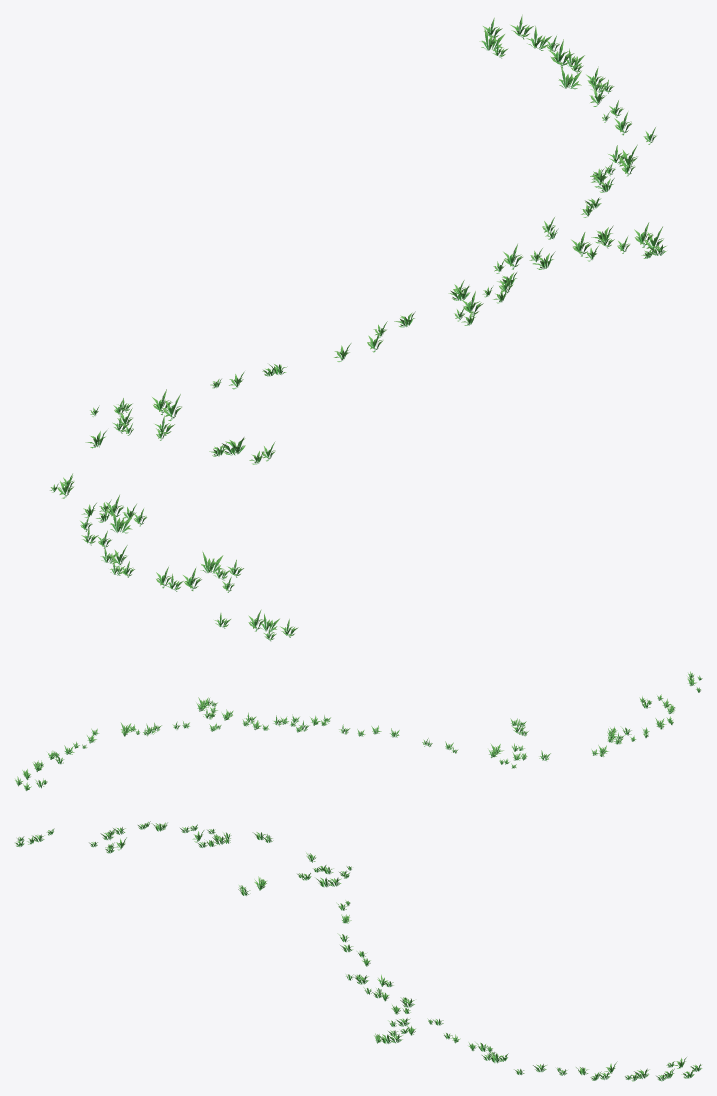
Rendered from Area_10_7.fbx.
3 renders of one model, top to bottom at view 1: azimuth 30°, elevation 25°; view 2: azimuth 150°, elevation 25°; view 3: azimuth 270°, elevation 25°, orthographic. The views are drawn at different scales.
Visible parts, largest first — view 1: Area_10_7; view 2: Area_10_7; view 3: Area_10_7.
Part boxes in pixels (left/top/right/bottom): Area_10_7: left=50, top=14, right=666, bottom=641; Area_10_7: left=15, top=671, right=702, bottom=790; Area_10_7: left=15, top=821, right=702, bottom=1081.
Size of the model in its own units: 4571 by 108 by 5156.
